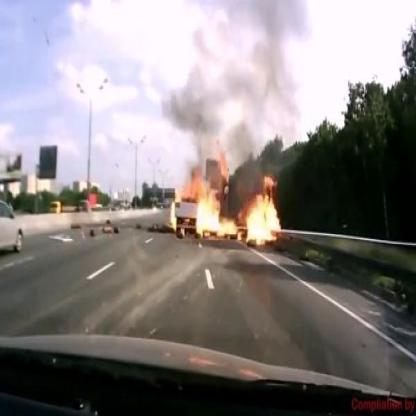fire: (196, 162, 239, 244), (244, 170, 284, 250), (168, 186, 183, 234)
